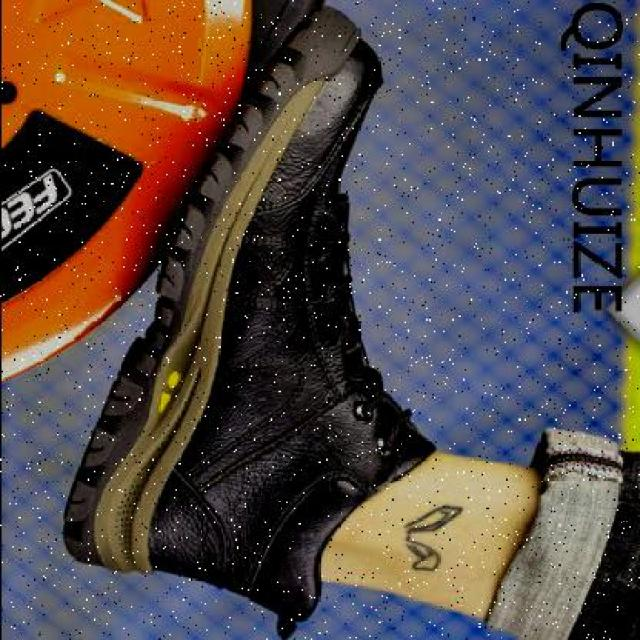shoes: (62, 16, 438, 630)
